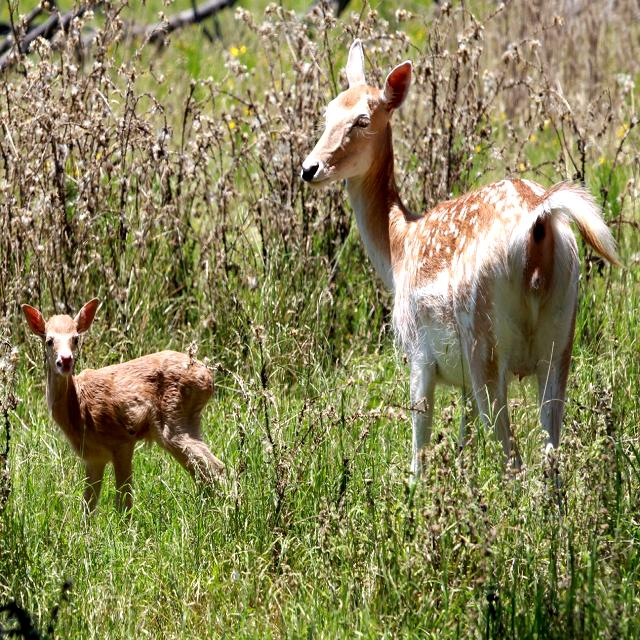deer: (285, 14, 624, 468), (15, 287, 245, 506)
